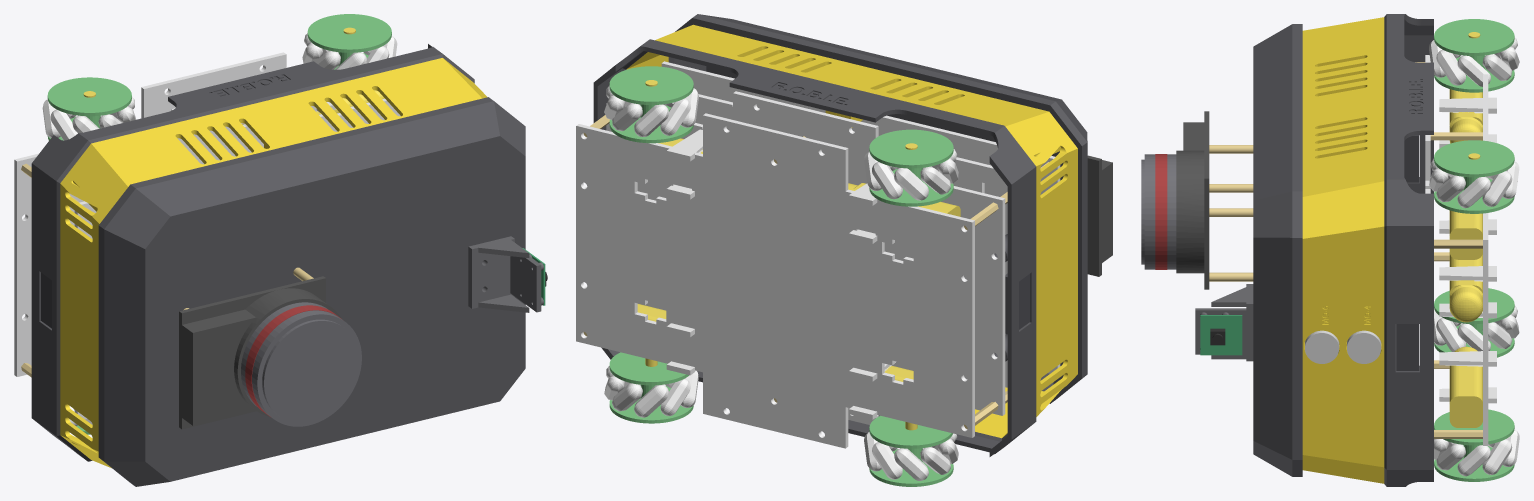
Rendered from robie_cad.glb.
3 views of the same model, side by side, from view 1: azimuth 30°, elevation 25°; view 2: azimuth 150°, elevation 25°; view 3: azimuth 270°, elevation 25° (orthographic). The views are drawn at different scales.
Parts seen in each view (by area): view 1: shell_black, shell_yellow, lidar_head, lidar_body, plate, wheel_hub, dark_plastic, wheel_roller, lidar_window; view 2: plate, shell_black, shell_yellow, wheel_hub, wheel_roller, lidar_body, bracket, motor, standoff; view 3: shell_black, shell_yellow, wheel_hub, wheel_roller, motor, lidar_body, bracket, standoff, lidar_head, plate, dark_plastic, mq_can (+3 smaller).
Boxes of the visible parts, left/top/right/bottom form: shell_black: left=31, top=44, right=525, bottom=486; shell_yellow: left=60, top=58, right=487, bottom=468; lidar_head: left=241, top=302, right=361, bottom=426; lidar_body: left=179, top=276, right=341, bottom=429; plate: left=14, top=52, right=400, bottom=419; wheel_hub: left=47, top=14, right=391, bottom=434; dark_plastic: left=468, top=236, right=543, bottom=312; wheel_roller: left=42, top=33, right=397, bottom=426; lidar_window: left=245, top=305, right=341, bottom=416; plate: left=576, top=61, right=1060, bottom=448; shell_black: left=593, top=14, right=1087, bottom=456; shell_yellow: left=626, top=24, right=1077, bottom=438; wheel_hub: left=609, top=66, right=953, bottom=486; wheel_roller: left=604, top=85, right=958, bottom=480; lidar_body: left=1087, top=155, right=1112, bottom=276; bracket: left=666, top=129, right=896, bottom=419; motor: left=637, top=80, right=960, bottom=430; standoff: left=583, top=115, right=1048, bottom=429; shell_black: left=1253, top=14, right=1433, bottom=486; shell_yellow: left=1302, top=17, right=1384, bottom=483; wheel_hub: left=1434, top=19, right=1514, bottom=481; wheel_roller: left=1429, top=38, right=1519, bottom=476; motor: left=1449, top=32, right=1482, bottom=427; lidar_body: left=1176, top=111, right=1209, bottom=289; bracket: left=1439, top=97, right=1496, bottom=403; standoff: left=1209, top=62, right=1482, bottom=438; lidar_head: left=1141, top=154, right=1176, bottom=269; plate: left=1425, top=55, right=1488, bottom=445; dark_plastic: left=1195, top=284, right=1253, bottom=361; mq_can: left=1305, top=330, right=1381, bottom=363.
Size of the model in its own units: 0.266 by 0.1958 by 0.2163.
